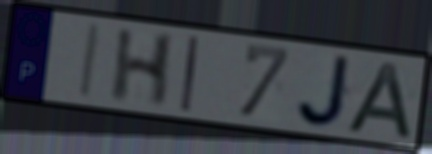7: (239, 41, 292, 122)
A: (343, 59, 416, 143)
H: (107, 27, 179, 110)
I: (76, 21, 105, 102), (179, 33, 202, 115)
J: (294, 53, 355, 130)
